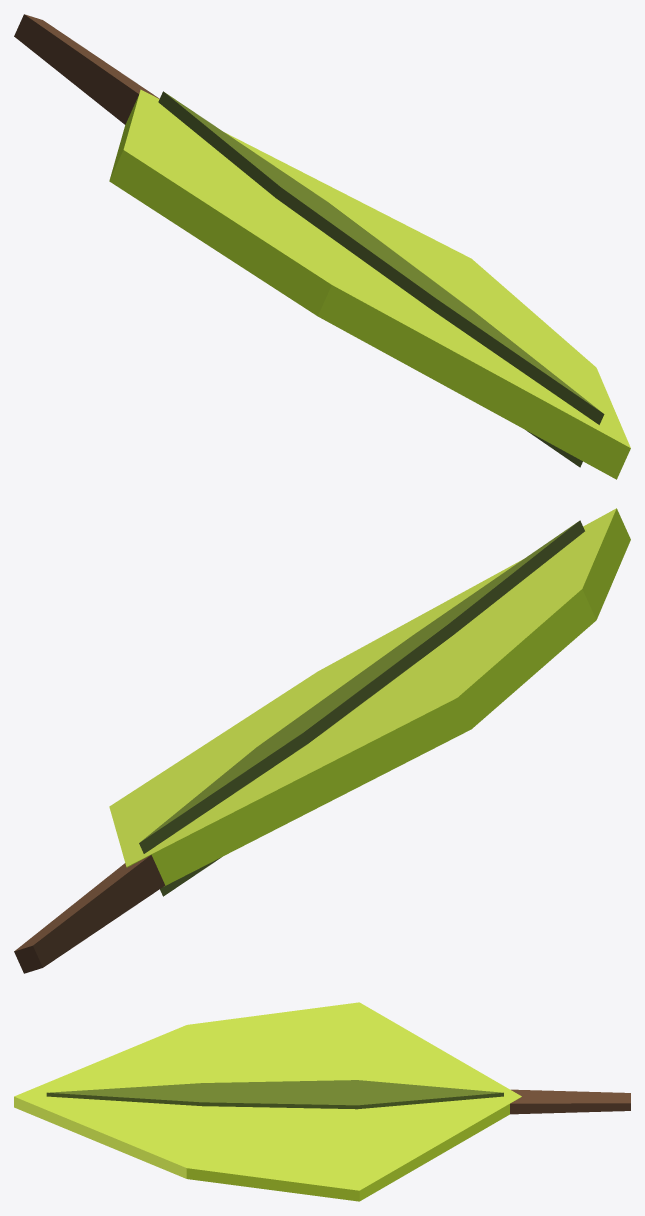
Rendered from proj_leaf.glb.
The picture shows the model from 3 angles, top to bottom: view 1: azimuth 30°, elevation 25°; view 2: azimuth 150°, elevation 25°; view 3: azimuth 270°, elevation 25°; orthographic projection. The views are drawn at different scales.
Visible parts, largest first — view 1: Proj_leaf, Proj_rib, Proj_stem; view 2: Proj_leaf, Proj_rib, Proj_stem; view 3: Proj_leaf, Proj_rib, Proj_stem.
Boxes of the visible parts, <box> form: Proj_leaf: <box>109,89,630,479</box>; Proj_rib: <box>158,91,604,467</box>; Proj_stem: <box>14,14,159,124</box>; Proj_leaf: <box>109,508,630,886</box>; Proj_rib: <box>139,520,584,896</box>; Proj_stem: <box>14,855,165,973</box>; Proj_leaf: <box>14,1002,521,1201</box>; Proj_rib: <box>46,1080,503,1109</box>; Proj_stem: <box>510,1089,630,1114</box>.
Size of the model in its own units: 0.239 by 0.1397 by 0.68.
